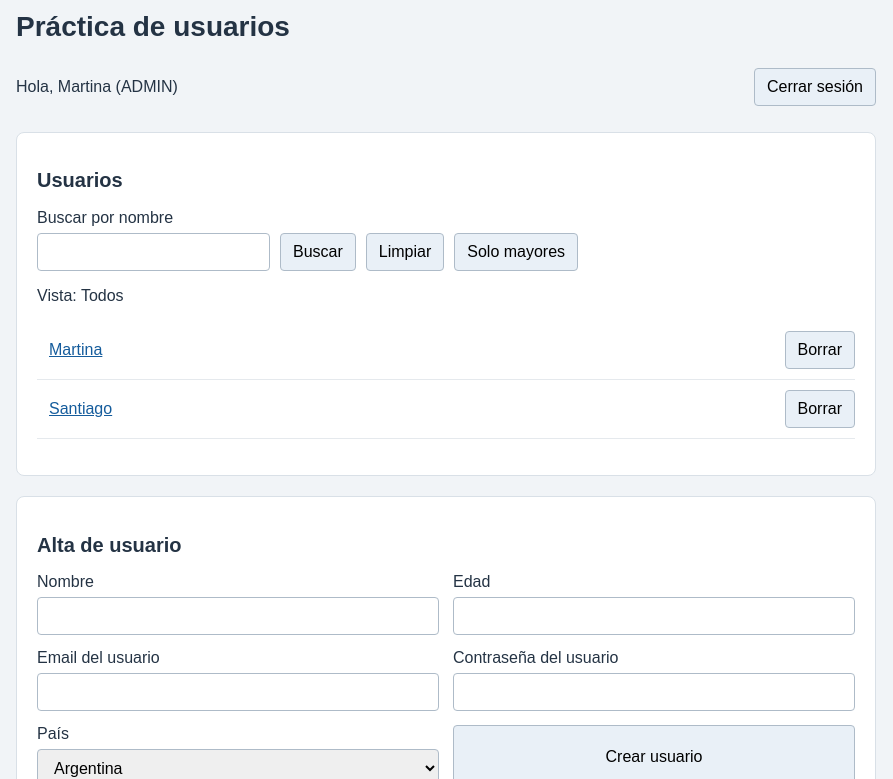
it: lista y detalle al elegir usuario
The image size is (893, 779).
Check: the text "Hola, Martina (ADMIN)" is shown, box top-left (16, 78), bottom-right (178, 96)
Click the button "Santiago" at (81, 409), box top-left (37, 390), bottom-right (124, 428)
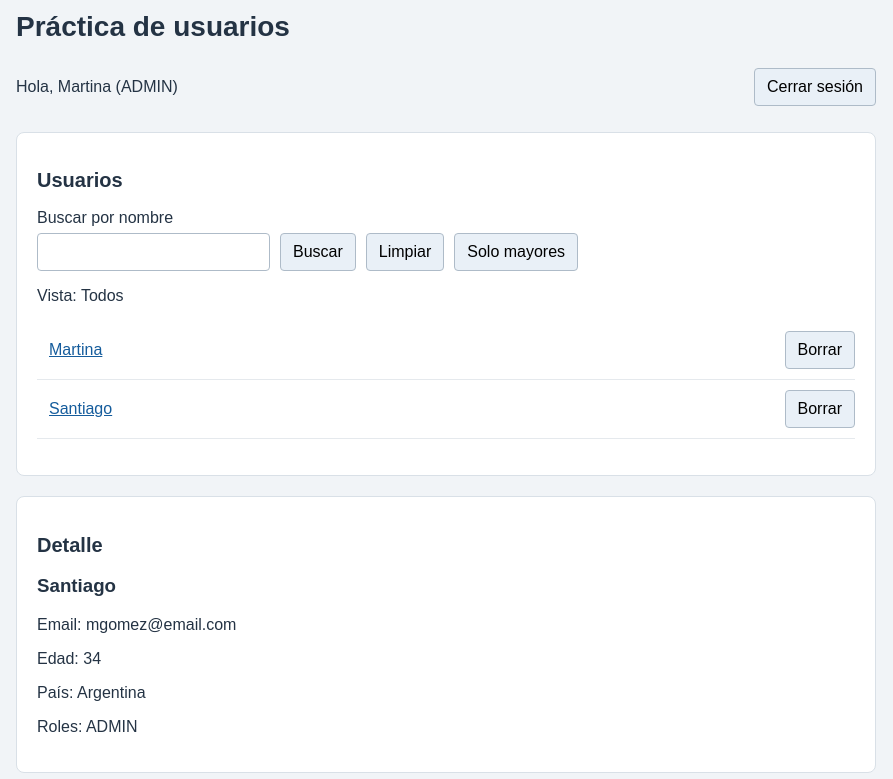
Check: the text "Edad: 34" is shown, box top-left (37, 650), bottom-right (101, 667)
Check: the text "País: Argentina" is shown, box top-left (37, 684), bottom-right (146, 701)
Check: the text "Roles: ADMIN" is shown, box top-left (37, 718), bottom-right (138, 735)
